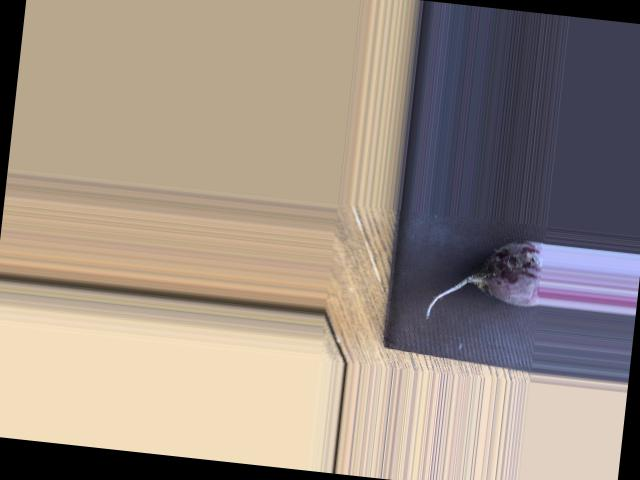beet: (425, 230, 544, 329)
